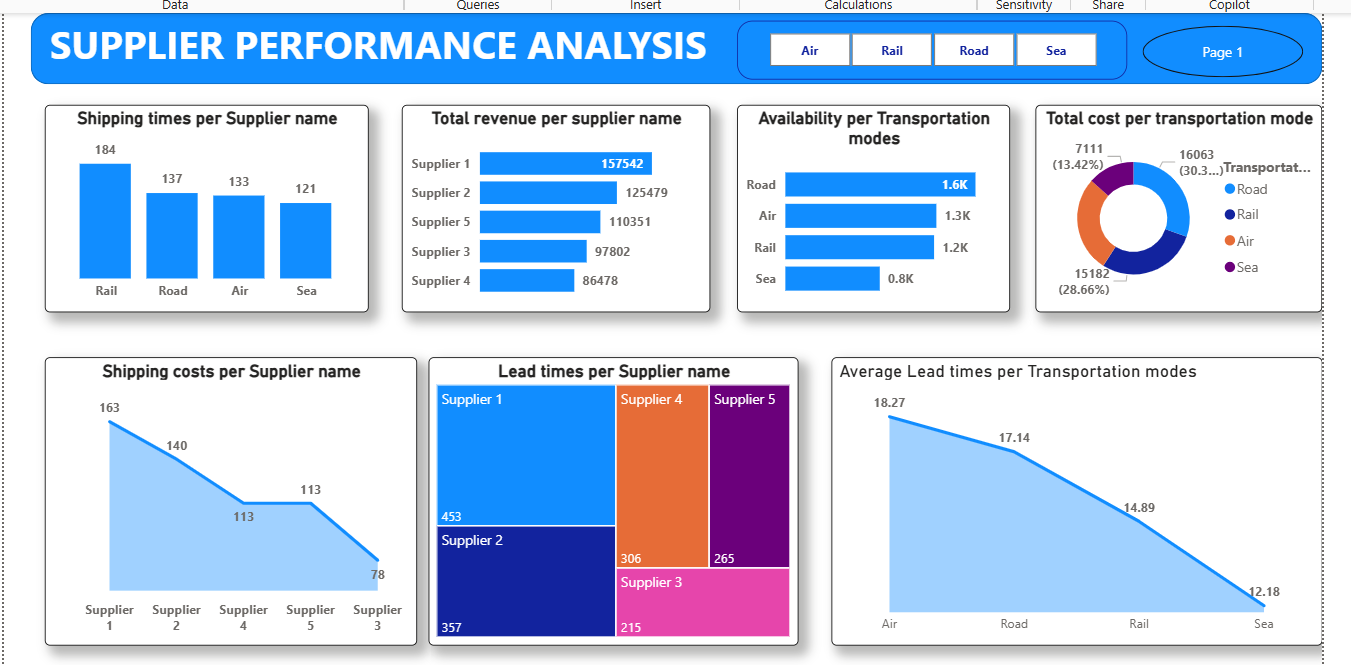

This screenshot's page, from the dashboard's own definition file:
{"tool":"powerbi","page":{"name":"Page 2","canvas":[1280,720],"ordinal":1},"visuals":[{"type":"columnChart","title":"Shipping times per Supplier name","fields":{"Category":["supply_chain_data.Transportation modes"],"Y":["Sum(supply_chain_data.Shipping times)"]},"box":[39.6,89.1,314.5,201.8],"z":0},{"type":"clusteredBarChart","title":"Total revenue per supplier name","fields":{"Category":["supply_chain_data.Supplier name"],"Y":["Sum(supply_chain_data.Revenue generated)"]},"box":[386.3,89.1,299.6,201.8],"z":1},{"type":"areaChart","title":" Shipping costs per Supplier name","fields":{"Category":["supply_chain_data.Supplier name"],"Y":["Sum(supply_chain_data.Shipping costs)"]},"box":[39.6,334.3,361.5,279.8],"z":2},{"type":"treemap","title":"Lead times per Supplier name","fields":{"Group":["supply_chain_data.Supplier name"],"Values":["Sum(supply_chain_data.Lead times)"]},"box":[412.3,334.3,359.1,279.8],"z":3},{"type":"clusteredBarChart","title":" Availability per Transportation modes","fields":{"Y":["Sum(supply_chain_data.Availability)"],"Category":["supply_chain_data.Transportation modes"]},"box":[711.9,89.1,265,201.8],"z":4},{"type":"donutChart","title":"Total cost per transportation mode","fields":{"Category":["supply_chain_data.Transportation modes"],"Y":["Sum(supply_chain_data.Costs)"]},"box":[1001.7,89.1,278.6,201.8],"z":5},{"type":"areaChart","title":"Average Lead times per Transportation modes","fields":{"Category":["supply_chain_data.Transportation modes"],"Y":["Avg(supply_chain_data.Lead times)"]},"box":[803.6,334.3,476.7,279.8],"z":6},{"type":"shape","box":[26,0,1254.2,69.3],"z":7},{"type":"textbox","box":[39.6,0,893.9,69.3],"z":8},{"type":"slicer","fields":{"Values":["supply_chain_data.Transportation modes"]},"box":[711.9,6.2,417.3,57],"z":9},{"type":"pageNavigator","box":[1141.6,13.6,122.6,49.5],"z":10}]}

Visuals, with their boxes on the page's 1280x720 design canvas (x1, y1, x2, y2). These are canvas units, not pixel positions in the 1351x665 screenshot, which may show the page scaled, cropped or inside an application window:
"Shipping times per Supplier name" columnChart: left=40, top=89, right=354, bottom=291
"Total revenue per supplier name" clusteredBarChart: left=386, top=89, right=686, bottom=291
" Shipping costs per Supplier name" areaChart: left=40, top=334, right=401, bottom=614
"Lead times per Supplier name" treemap: left=412, top=334, right=771, bottom=614
" Availability per Transportation modes" clusteredBarChart: left=712, top=89, right=977, bottom=291
"Total cost per transportation mode" donutChart: left=1002, top=89, right=1280, bottom=291
"Average Lead times per Transportation modes" areaChart: left=804, top=334, right=1280, bottom=614
shape: left=26, top=0, right=1280, bottom=69
textbox: left=40, top=0, right=934, bottom=69
slicer - supply_chain_data.Transportation modes: left=712, top=6, right=1129, bottom=63
pageNavigator: left=1142, top=14, right=1264, bottom=63
